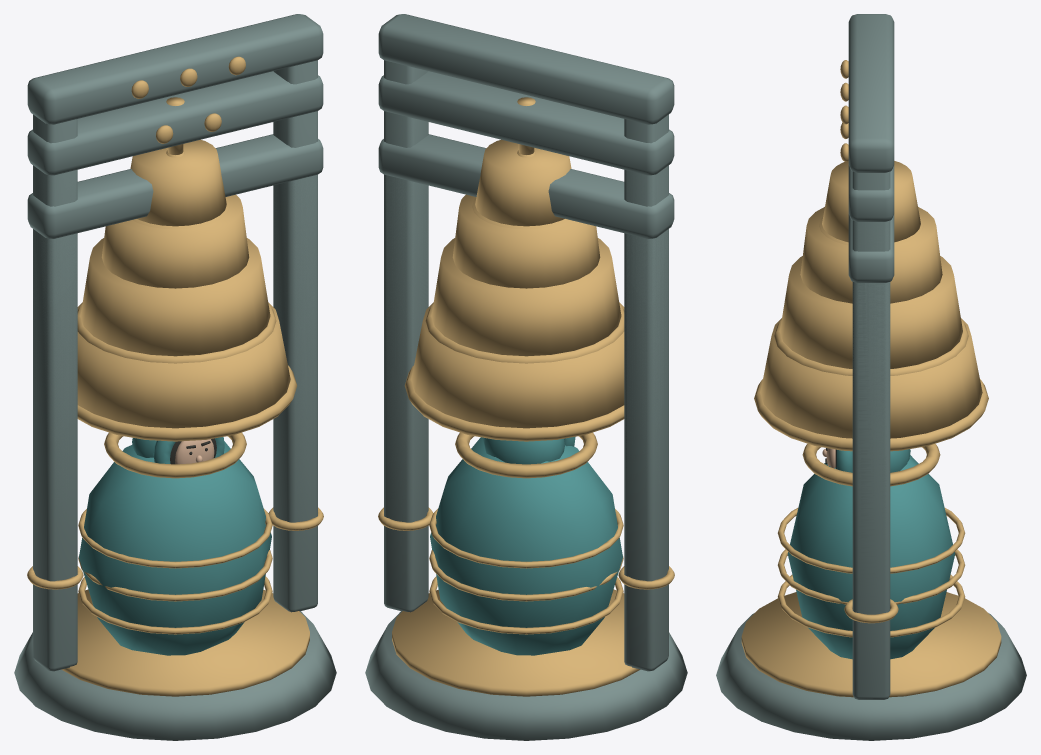
The model's file is world11-cast-v1.glb.
3 renders of one model, left to right at view 1: azimuth 30°, elevation 25°; view 2: azimuth 150°, elevation 25°; view 3: azimuth 270°, elevation 25°, orthographic. The views are drawn at different scales.
Visible parts, largest first — view 1: storm-bell-low-rain-stone, storm-bell-high-rain-stone, storm-bell-mid-rain-stone, storm-bell-low-rain-brass, echo-resonant-monolith, storm-bell-mid-rain-brass, storm-bell-high-rain-brass, storm-echo-stone-rain-brass, rain-pilgrim-teal-head-rain-teal, rain-pilgrim-teal-head-rain-skin; view 2: storm-bell-high-rain-stone, storm-bell-low-rain-stone, storm-bell-mid-rain-stone, storm-bell-low-rain-brass, echo-resonant-monolith, storm-bell-mid-rain-brass, storm-bell-high-rain-brass, storm-echo-stone-rain-brass, rain-pilgrim-teal-head-rain-teal; view 3: storm-bell-low-rain-stone, storm-bell-low-rain-brass, echo-resonant-monolith, storm-bell-high-rain-stone, storm-bell-mid-rain-brass, storm-bell-high-rain-brass, storm-echo-stone-rain-brass, storm-bell-mid-rain-stone, rain-pilgrim-teal-head-rain-teal.
Part boxes in pixels (x1,y1,x2,y2): storm-bell-low-rain-stone: (14, 134, 336, 740); storm-bell-high-rain-stone: (27, 14, 323, 668); storm-bell-mid-rain-stone: (27, 71, 323, 670); storm-bell-low-rain-brass: (27, 302, 323, 696); echo-resonant-monolith: (79, 441, 271, 655); storm-bell-mid-rain-brass: (77, 113, 276, 363); storm-bell-high-rain-brass: (101, 56, 249, 288); storm-echo-stone-rain-brass: (78, 432, 272, 634); rain-pilgrim-teal-head-rain-teal: (132, 437, 224, 463); rain-pilgrim-teal-head-rain-skin: (175, 439, 214, 464); storm-bell-high-rain-stone: (378, 14, 674, 668); storm-bell-low-rain-stone: (365, 134, 687, 740); storm-bell-mid-rain-stone: (378, 71, 674, 670); storm-bell-low-rain-brass: (378, 302, 674, 696); echo-resonant-monolith: (430, 437, 622, 655); storm-bell-mid-rain-brass: (425, 150, 624, 363); storm-bell-high-rain-brass: (452, 97, 600, 288); storm-echo-stone-rain-brass: (429, 432, 623, 634); rain-pilgrim-teal-head-rain-teal: (483, 436, 575, 464); storm-bell-low-rain-stone: (716, 214, 1026, 740); storm-bell-low-rain-brass: (741, 318, 1001, 697); echo-resonant-monolith: (787, 455, 955, 659); storm-bell-high-rain-stone: (848, 14, 894, 694); storm-bell-mid-rain-brass: (774, 122, 968, 375); storm-bell-high-rain-brass: (800, 60, 942, 303); storm-echo-stone-rain-brass: (777, 443, 965, 637); storm-bell-mid-rain-stone: (848, 165, 894, 699); rain-pilgrim-teal-head-rain-teal: (836, 449, 910, 472).
Bounding box in the file's own units: 2.38 × 4.89 × 2.3.
